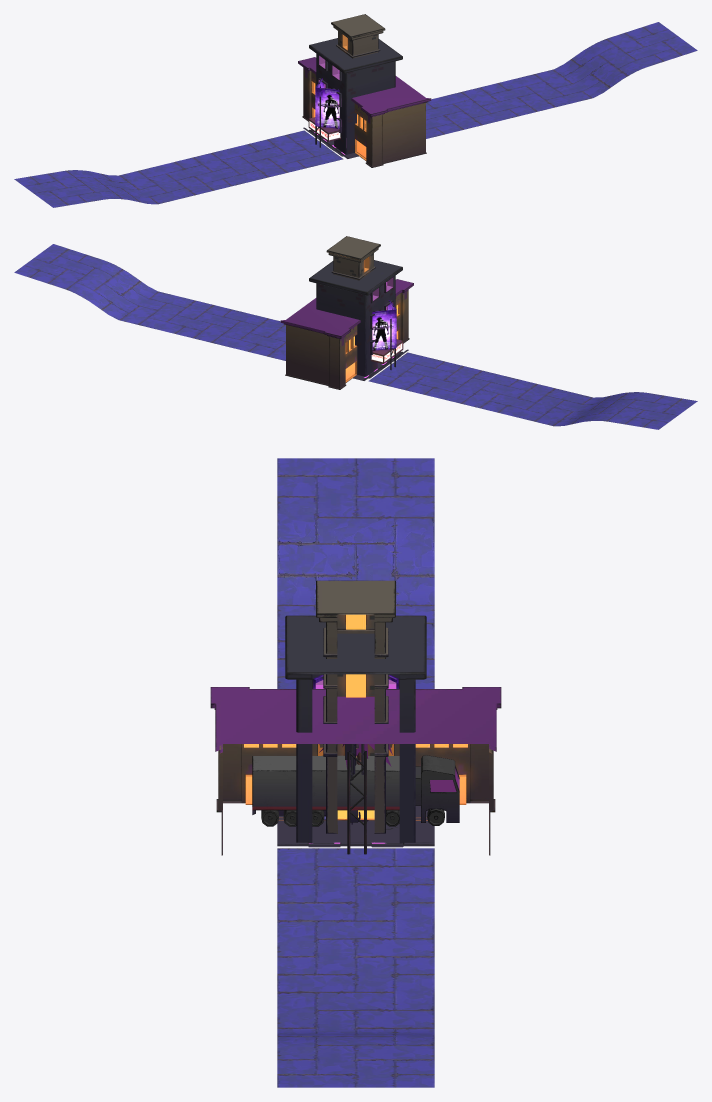
The model's file is Enviroment2Optimized.gltf.
The picture shows the model from 3 angles, top to bottom: view 1: azimuth 30°, elevation 25°; view 2: azimuth 150°, elevation 25°; view 3: azimuth 270°, elevation 25°; orthographic projection. The views are drawn at different scales.
Visible parts, largest first — view 1: SideRailing, MovieTheater, ShortBuilding, TallBuilding; view 2: SideRailing, MovieTheater, ShortBuilding, TallBuilding; view 3: SideRailing, MovieTheater, ShortBuilding, TallBuilding, Truck, HighWay, HighWaySign.
Part boxes in pixels (x1,y1,x2,y2): SideRailing: (14,22,697,207); MovieTheater: (298,57,431,167); ShortBuilding: (309,38,402,154); TallBuilding: (331,14,385,58); SideRailing: (14,244,697,429); MovieTheater: (280,279,413,389); ShortBuilding: (309,260,402,376); TallBuilding: (326,236,380,280); SideRailing: (277,458,434,1087); MovieTheater: (210,675,501,855); ShortBuilding: (285,615,426,843); TallBuilding: (316,580,395,833); Truck: (252,755,459,826); HighWay: (277,806,434,847); HighWaySign: (345,744,366,854).
Bounding box in the file's own units: 125 × 20.82 × 24.47.
Materials: 12 (12 with a texture image).
